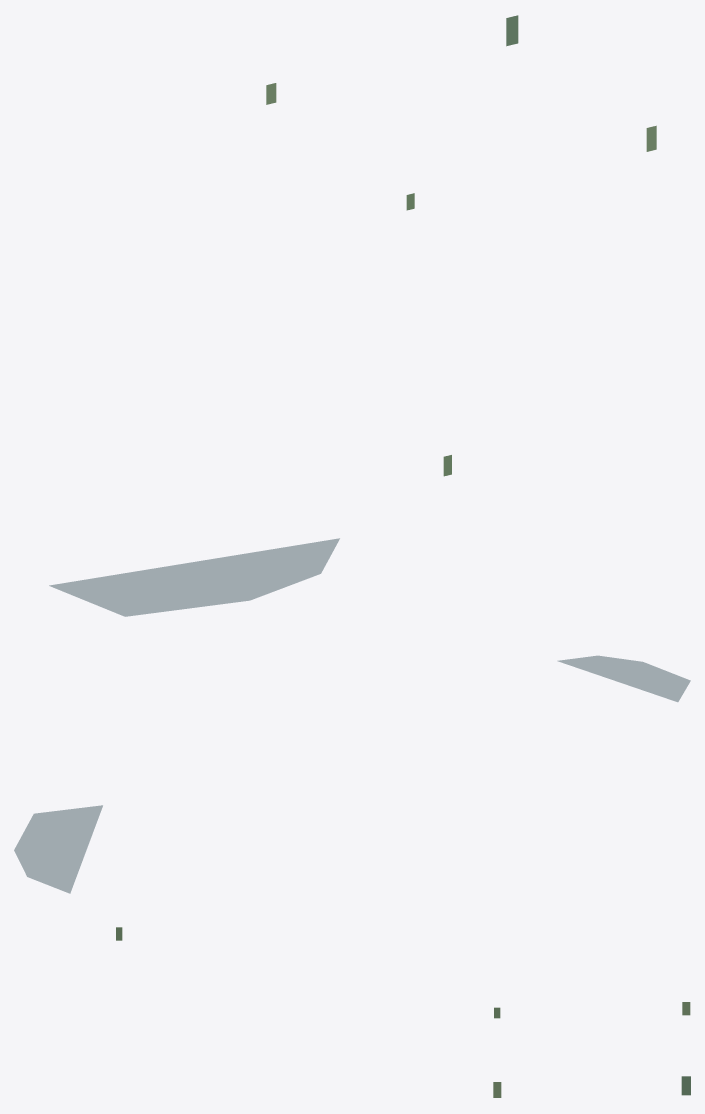
3 views of the same model, one above another, from view 1: azimuth 30°, elevation 25°; view 2: azimuth 150°, elevation 25°; view 3: azimuth 270°, elevation 25° (orthographic). The views are drawn at different scales.
Bounding box in the file's own units: 224 × 8.78 × 215.
